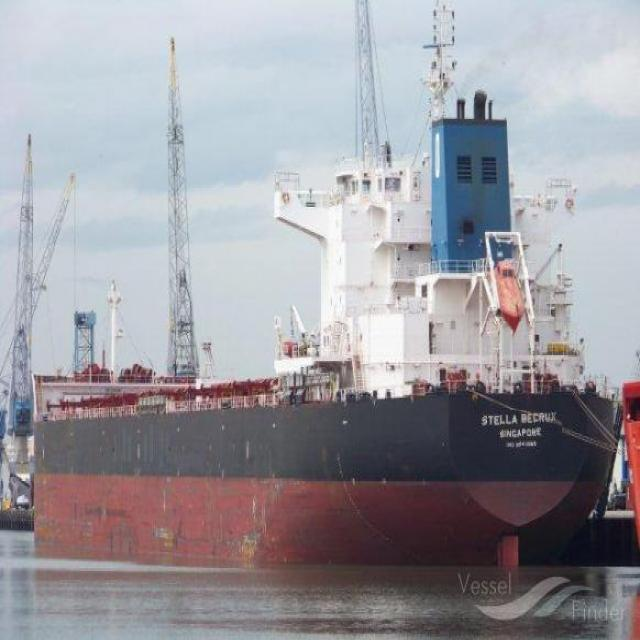OCR: (474, 410, 562, 458)
